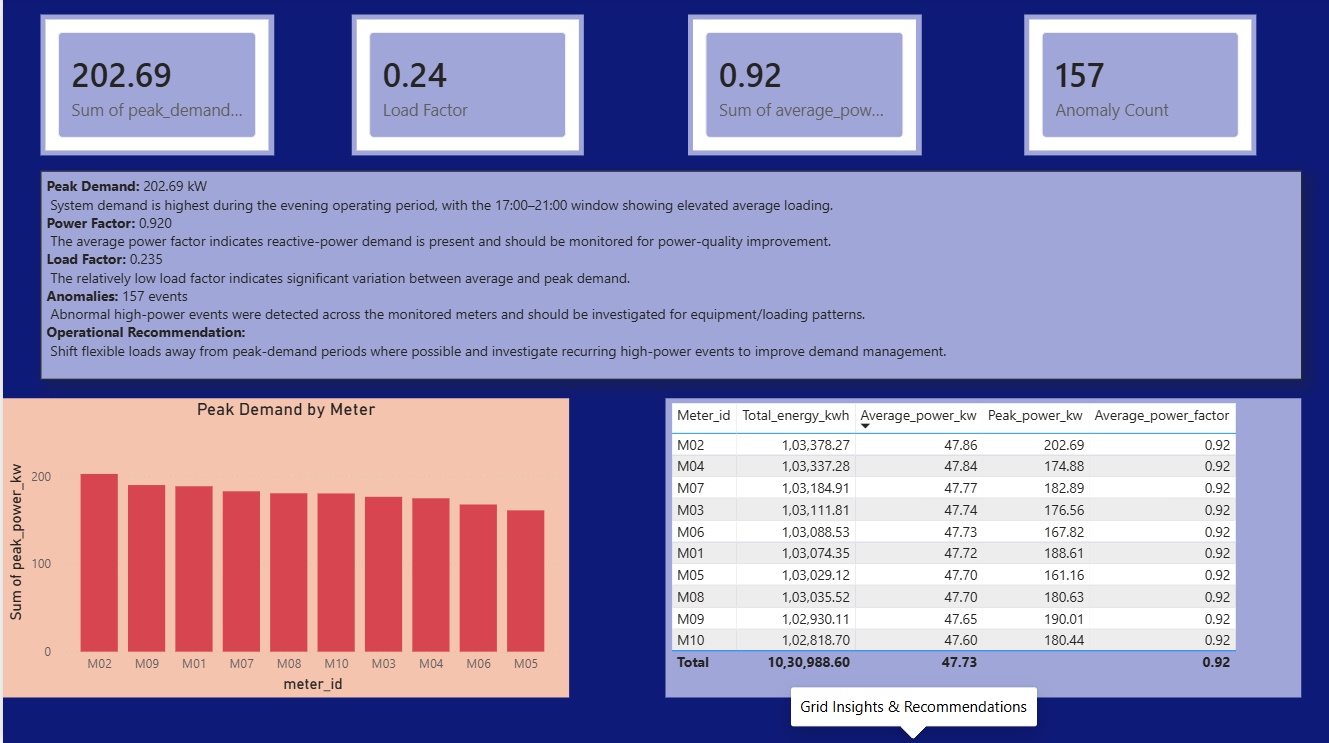

This screenshot's page, from the dashboard's own definition file:
{"tool":"powerbi","page":{"name":"Grid Insights & Recommendations","canvas":[1280,720],"ordinal":3},"visuals":[{"type":"cardVisual","fields":{"Data":["Sum(executive_summary.peak_demand_kw)"]},"box":[36.2,16.9,225.6,136.3],"z":0},{"type":"cardVisual","fields":{"Data":["anomalies.Load Factor"]},"box":[336.6,16.9,224.4,136.3],"z":1},{"type":"cardVisual","fields":{"Data":["Sum(executive_summary.average_power_factor)"]},"box":[661.1,16.9,225.6,136.3],"z":2},{"type":"cardVisual","fields":{"Data":["anomalies.Anomaly Count"]},"box":[985.7,16.9,224.4,136.3],"z":3},{"type":"textbox","box":[36.2,167.7,1217.3,201.5],"z":4},{"type":"columnChart","title":"Peak Demand by Meter","fields":{"Category":["meter_performance.meter_id"],"Y":["Sum(meter_performance.peak_power_kw)"]},"box":[0,387.6,546.6,288.6],"z":5},{"type":"tableEx","fields":{"Values":["meter_performance.meter_id","Sum(meter_performance.total_energy_kwh)","Avg(meter_performance.average_power_kw)","meter_performance.peak_power_kw","Avg(meter_performance.average_power_factor)"]},"box":[639.5,387.6,613.9,288.6],"z":6}]}

Visuals, with their boxes in screenshot pixels (x1, y1, x2, y2), scaled from the page's 1280x720 canvas onto the 1329x743 screenshot:
cardVisual - Sum(executive_summary.peak_demand_kw): bbox=[38, 17, 272, 158]
cardVisual - anomalies.Load Factor: bbox=[349, 17, 582, 158]
cardVisual - Sum(executive_summary.average_power_factor): bbox=[686, 17, 921, 158]
cardVisual - anomalies.Anomaly Count: bbox=[1023, 17, 1256, 158]
textbox: bbox=[38, 173, 1301, 381]
"Peak Demand by Meter" columnChart: bbox=[0, 400, 568, 698]
tableEx - meter_performance.meter_id x Sum(meter_performance.total_energy_kwh): bbox=[664, 400, 1301, 698]
